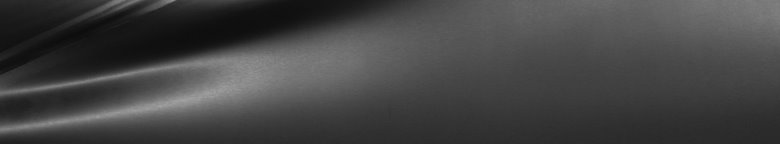ke: (47, 0, 344, 144)
